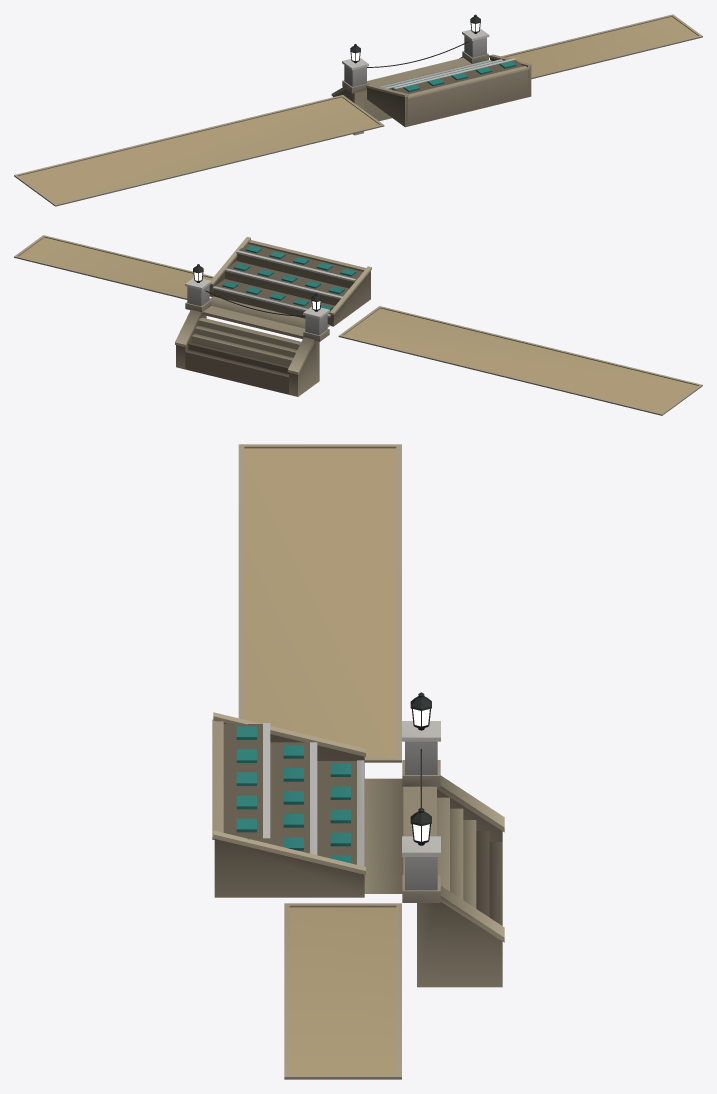
Rendered from pav_regatta_lookout.glb.
The picture shows the model from 3 angles, top to bottom: view 1: azimuth 30°, elevation 25°; view 2: azimuth 150°, elevation 25°; view 3: azimuth 270°, elevation 25°; orthographic projection. The views are drawn at different scales.
Parts seen in each view (by area): view 1: static_regatta_lookout; view 2: static_regatta_lookout; view 3: static_regatta_lookout.
Part boxes in pixels (bbox=[...]): static_regatta_lookout: bbox=[14, 14, 702, 206]; static_regatta_lookout: bbox=[14, 235, 702, 415]; static_regatta_lookout: bbox=[212, 444, 504, 1079].
Size of the model in its own units: 32.94 by 4.32 by 6.43.
